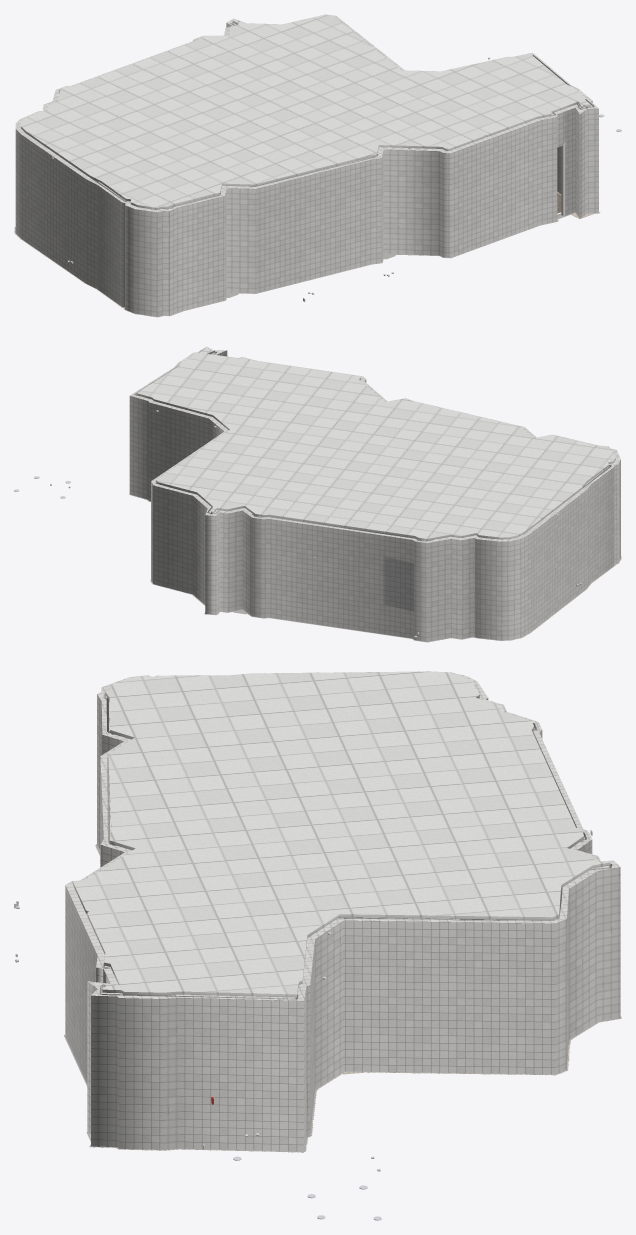
Rendered from cocina_alta_15c4af0888ba.glb.
The picture shows the model from 3 angles, top to bottom: view 1: azimuth 30°, elevation 25°; view 2: azimuth 150°, elevation 25°; view 3: azimuth 270°, elevation 25°; orthographic projection. The views are drawn at different scales.
Visible parts, largest first — view 1: Z_cocina_tile_w, Z_cocina_ceil, WALL_FOOTPRINT_LINE; view 2: Z_cocina_tile_w, Z_cocina_ceil, GLASS_3, WALL_FOOTPRINT_LINE; view 3: Z_cocina_ceil, Z_cocina_tile_w, WALL_FOOTPRINT_LINE.
Part boxes in pixels (box(x1,y1,x2,y2)): Z_cocina_tile_w: box(15, 14, 598, 316); Z_cocina_ceil: box(21, 15, 590, 209); WALL_FOOTPRINT_LINE: box(14, 192, 600, 317); Z_cocina_tile_w: box(129, 346, 620, 641); Z_cocina_ceil: box(136, 348, 615, 540); GLASS_3: box(385, 557, 413, 611); WALL_FOOTPRINT_LINE: box(129, 494, 621, 642); Z_cocina_ceil: box(73, 671, 610, 997); Z_cocina_tile_w: box(65, 671, 620, 1152); WALL_FOOTPRINT_LINE: box(64, 844, 621, 1152).
Size of the model in its own units: 17 by 3.08 by 10.91.
Materials: 41 (7 with a texture image).
